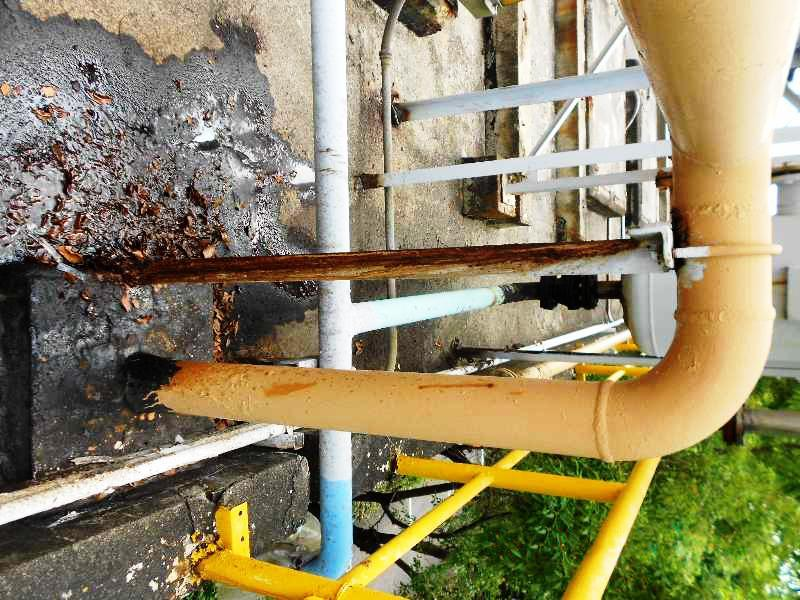water accumulation: (0, 0, 318, 492)
